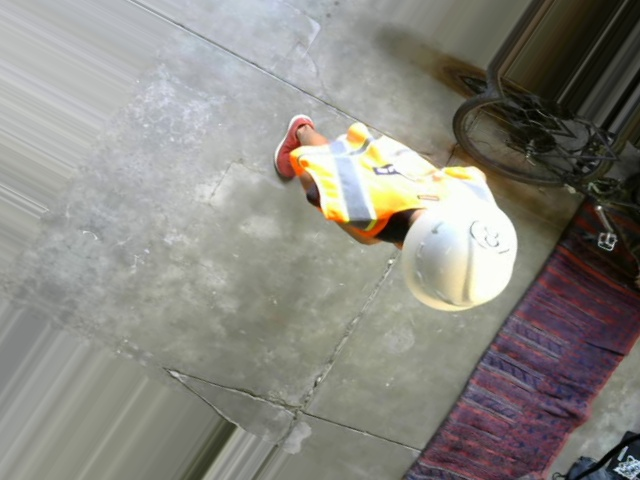eight: (462, 210, 525, 261)
